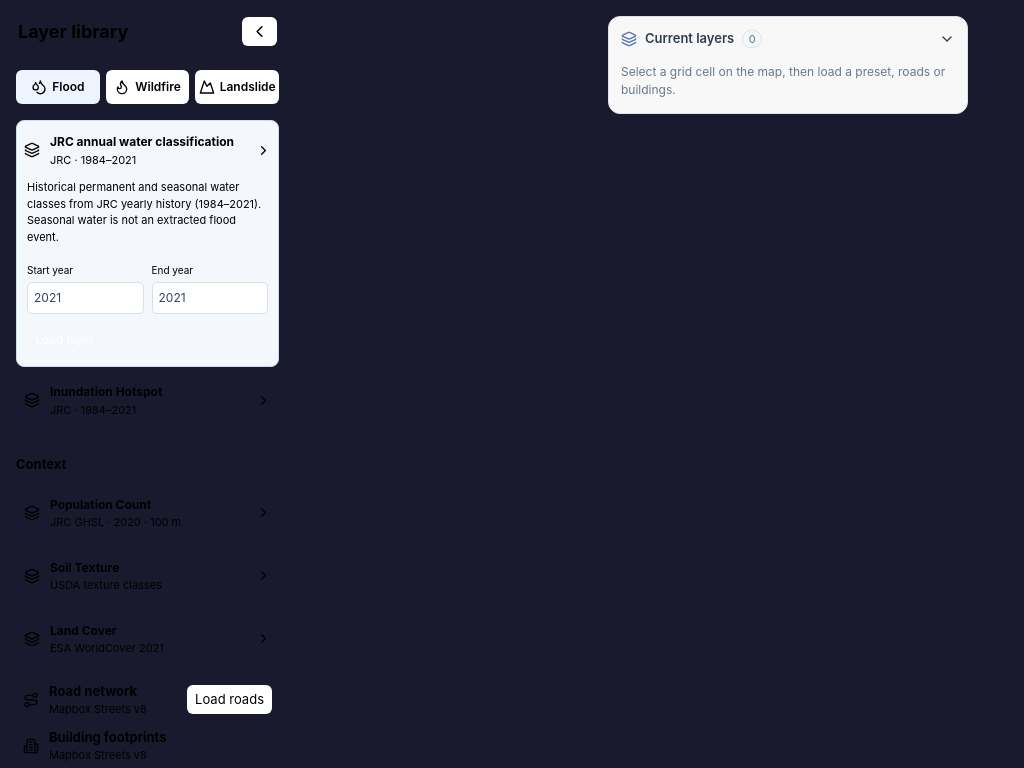
it: retry uses the failed card’s original grid and ignores errors from its old source
Click the button "Load roads" at (230, 700), box [187,685,272,714]
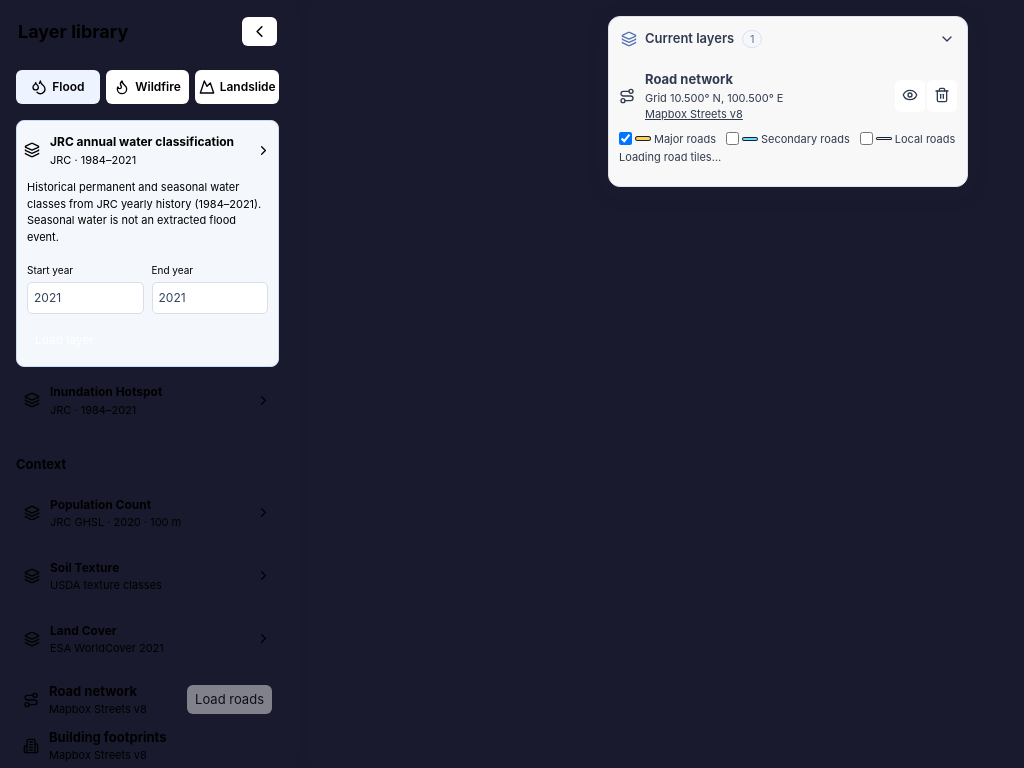
Click the checkbox labelled "Secondary roads" at (732, 139), box [726,132,739,145]
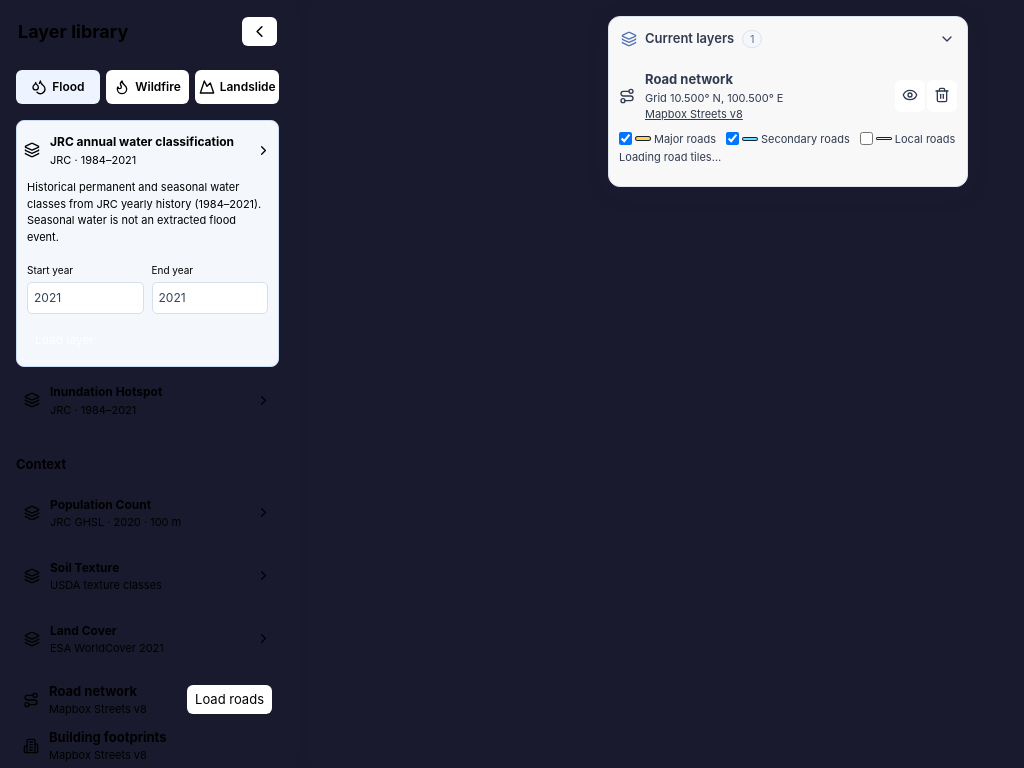
Click the button "Load roads" at (230, 700), box [187,685,272,714]
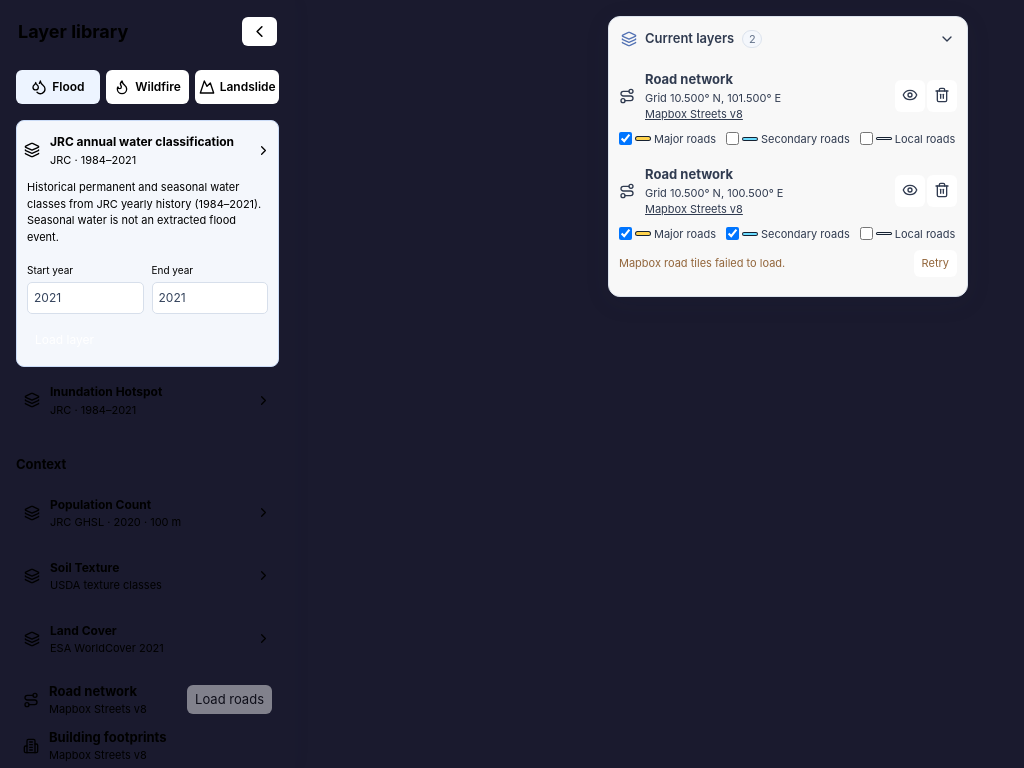
Click the button "Retry" at (935, 263), box [914,250,957,276]
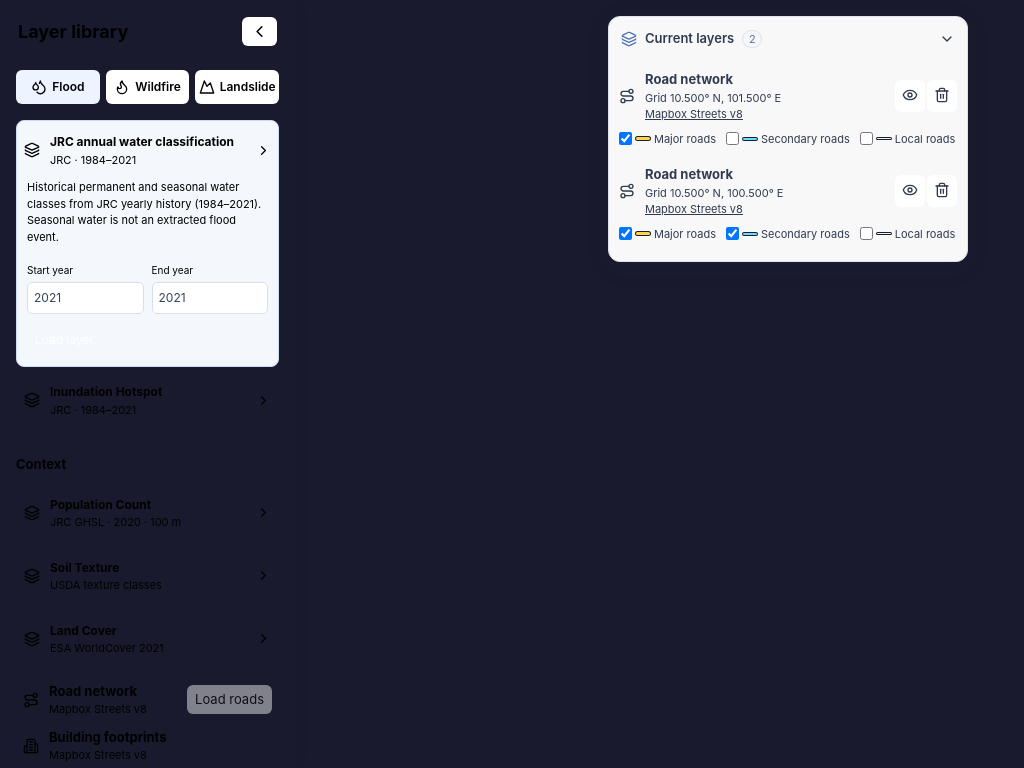
Check: the message "Mapbox road tiles failed to load. Retry" is gone
